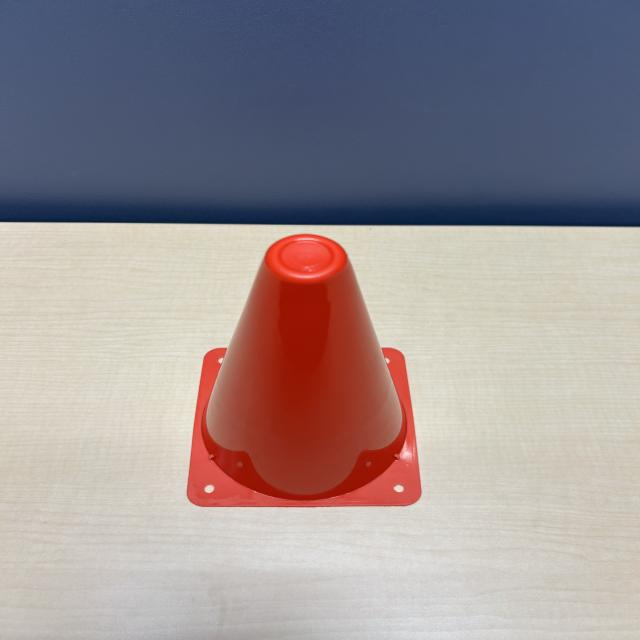orange cone: (176, 232, 436, 509)
